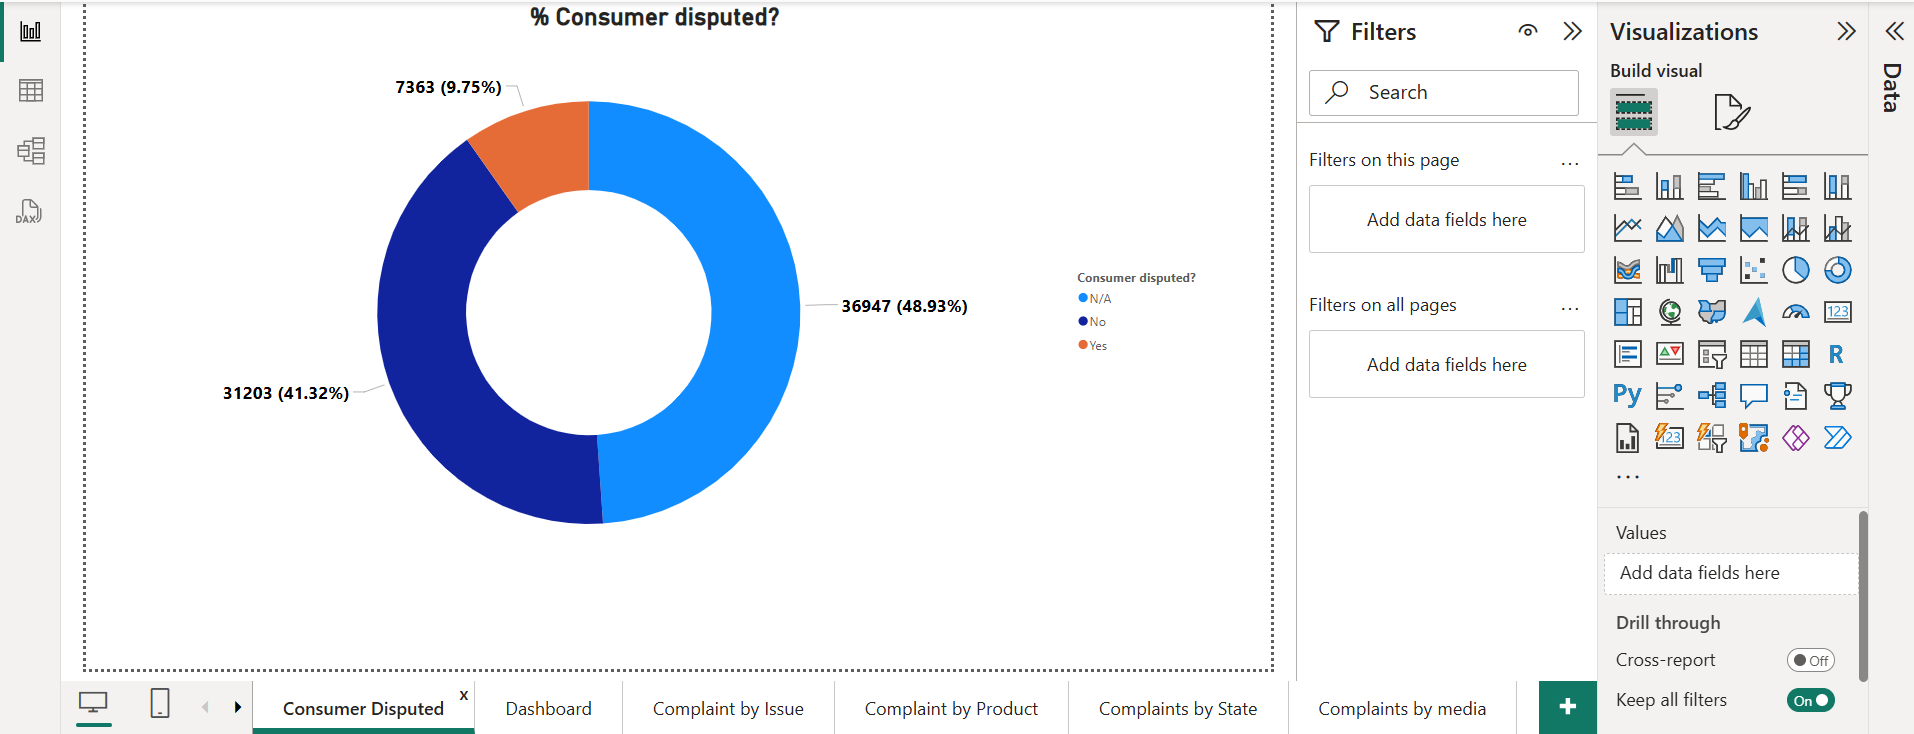

The page's visual inventory and layout, read from the dashboard file:
{"tool":"powerbi","page":{"name":"Consumer Disputed","canvas":[1280,720],"ordinal":0},"visuals":[{"type":"donutChart","title":"% Consumer disputed?","fields":{"Category":["Financial Consumer Complaints.Consumer disputed?"],"Y":["Financial Consumer Complaints.Total Complaints"]},"box":[9.4,0,1209.5,640.6],"z":0}]}

Visuals, with their boxes on the page's 1280x720 design canvas (x1, y1, x2, y2). These are canvas units, not pixel positions in the 1914x734 screenshot, which may show the page scaled, cropped or inside an application window:
"% Consumer disputed?" donutChart: 9/0/1219/641
